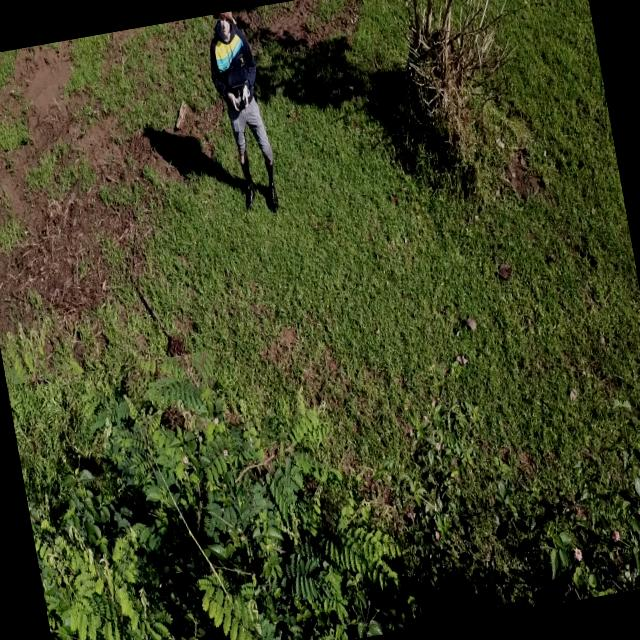Mysore-Thorn-Weed: (6, 349, 265, 640), (225, 384, 398, 640)
